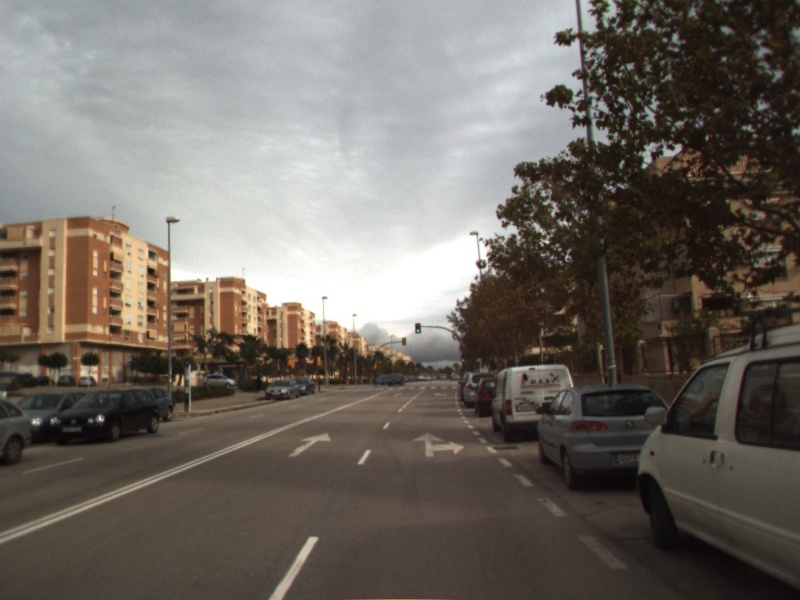STRAIGHT: (286, 430, 333, 459)
STRAIGHT_RIGHT: (410, 430, 466, 459)
